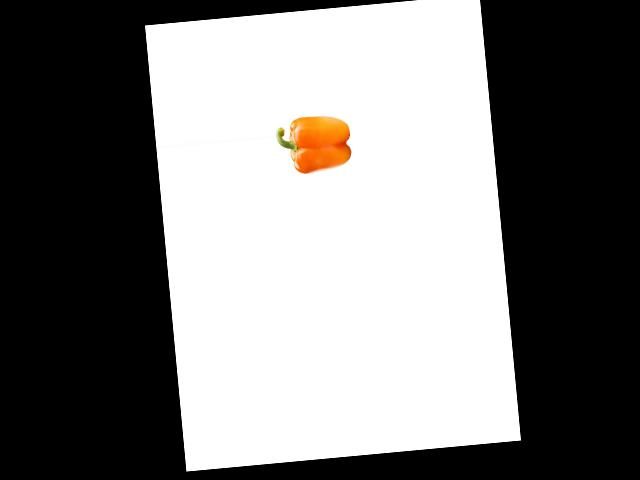bell_pepper: (274, 106, 354, 181)
